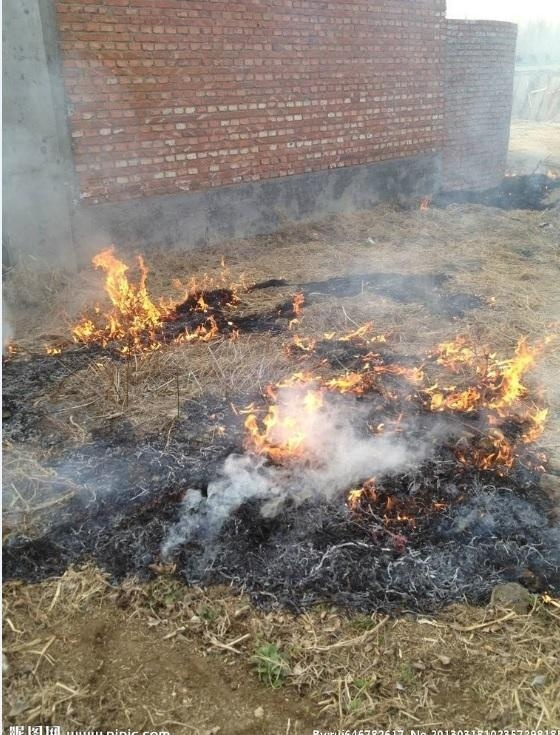fire: (226, 300, 557, 471)
